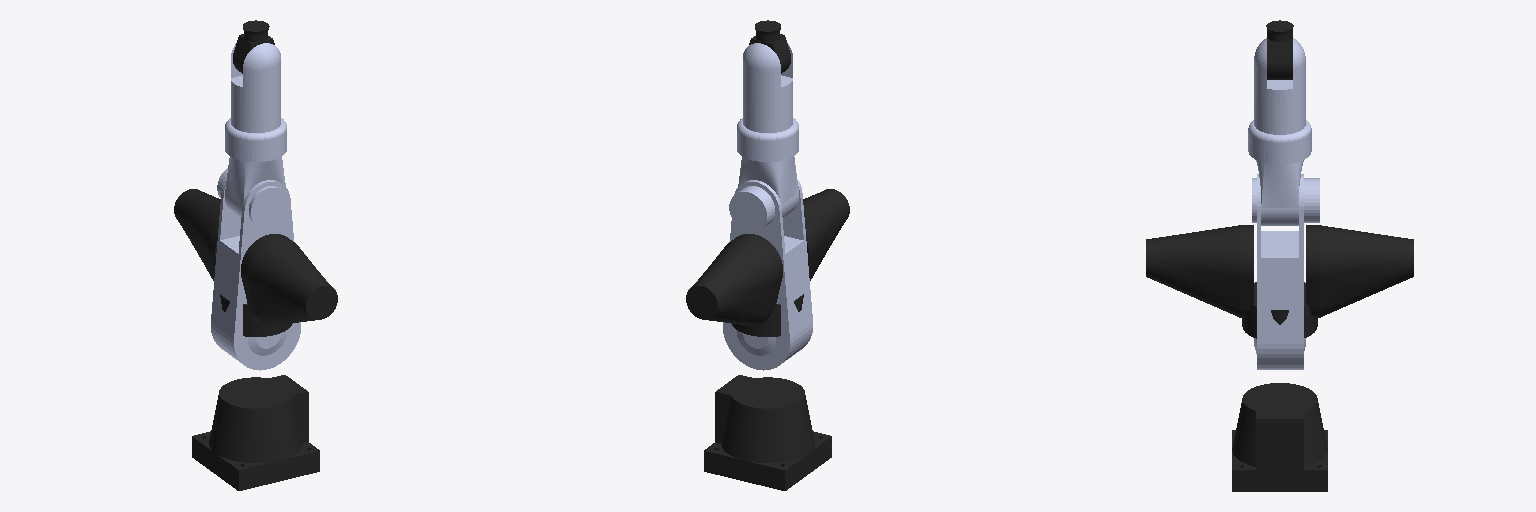
robot.urdf — crs_a465:
<?xml version="1.0" encoding="utf-8"?>
<!-- This URDF was automatically created by SolidWorks to URDF Exporter! Originally created by [author] ([email redacted]) 
     Commit Version: 1.6.0-4-g7f85cfe  Build Version: 1.6.7995.38578
     For more information, please see http://wiki.ros.org/sw_urdf_exporter -->
<robot
  name="crs_a465">
  <link
    name="eslabon_base">
    <inertial>
      <origin
        xyz="0.0033005 -1.0658E-10 0.075392"
        rpy="0 0 0" />
      <mass
        value="5.3549" />
      <inertia
        ixx="0.026465"
        ixy="-5.7942E-11"
        ixz="-0.00085077"
        iyy="0.027827"
        iyz="1.2428E-10"
        izz="0.028818" />
    </inertial>
    <visual>
      <origin
        xyz="0 0 0"
        rpy="0 0 0" />
      <geometry>
        <mesh
          filename="package://crs_a465/meshes/eslabon_base.STL" />
      </geometry>
      <material
        name="">
        <color
          rgba="0.2 0.2 0.2 1" />
      </material>
    </visual>
    <collision>
      <origin
        xyz="0 0 0"
        rpy="0 0 0" />
      <geometry>
        <mesh
          filename="package://crs_a465/meshes/eslabon_base.STL" />
      </geometry>
    </collision>
  </link>
  <link
    name="eslabon_1">
    <inertial>
      <origin
        xyz="-3.6863E-08 5.1363E-08 0.12206"
        rpy="0 0 0" />
      <mass
        value="7.6604" />
      <inertia
        ixx="0.17917"
        ixy="-1.131E-07"
        ixz="-7.5108E-08"
        iyy="0.033062"
        iyz="-1.514E-08"
        izz="0.16191" />
    </inertial>
    <visual>
      <origin
        xyz="0 0 0"
        rpy="0 0 0" />
      <geometry>
        <mesh
          filename="package://crs_a465/meshes/eslabon_1.STL" />
      </geometry>
      <material
        name="">
        <color
          rgba="0.2 0.2 0.2 1" />
      </material>
    </visual>
    <collision>
      <origin
        xyz="0 0 0"
        rpy="0 0 0" />
      <geometry>
        <mesh
          filename="package://crs_a465/meshes/eslabon_1.STL" />
      </geometry>
    </collision>
  </link>
  <joint
    name="junta_0_1"
    type="revolute">
    <origin
      xyz="0 0 0.17"
      rpy="0 0 0" />
    <parent
      link="eslabon_base" />
    <child
      link="eslabon_1" />
    <axis
      xyz="0 0 1" />
    <limit
      lower="-3.0543"
      upper="3.0543"
      effort="39.5"
      velocity="3.14" />
    <calibration
      rising="3.0543" />
  </joint>
  <link
    name="eslabon_2">
    <inertial>
      <origin
        xyz="-2.7756E-17 0.0026097 0.092888"
        rpy="0 0 0" />
      <mass
        value="4.9089" />
      <inertia
        ixx="0.062922"
        ixy="-1.0564E-18"
        ixz="-3.0636E-18"
        iyy="0.065705"
        iyz="-0.0027173"
        izz="0.014194" />
    </inertial>
    <visual>
      <origin
        xyz="0 0 0"
        rpy="0 0 0" />
      <geometry>
        <mesh
          filename="package://crs_a465/meshes/eslabon_2.STL" />
      </geometry>
      <material
        name="">
        <color
          rgba="0.79216 0.81961 0.93333 1" />
      </material>
    </visual>
    <collision>
      <origin
        xyz="0 0 0"
        rpy="0 0 0" />
      <geometry>
        <mesh
          filename="package://crs_a465/meshes/eslabon_2.STL" />
      </geometry>
    </collision>
  </link>
  <joint
    name="junta_1_2"
    type="revolute">
    <origin
      xyz="0 8.00000000000384E-05 0.16"
      rpy="0 0 0" />
    <parent
      link="eslabon_1" />
    <child
      link="eslabon_2" />
    <axis
      xyz="0 1 0" />
    <limit
      lower="-1.5708"
      upper="1.5708"
      effort="66.08"
      velocity="3.14" />
    <calibration
      rising="0.17453" />
  </joint>
  <link
    name="eslabon_3">
    <inertial>
      <origin
        xyz="6.0536E-08 -2.6493E-08 0.0085436"
        rpy="0 0 0" />
      <mass
        value="0.84552" />
      <inertia
        ixx="0.0011491"
        ixy="1.4518E-07"
        ixz="-9.5319E-10"
        iyy="0.0013629"
        iyz="4.2164E-10"
        izz="0.0011924" />
    </inertial>
    <visual>
      <origin
        xyz="0 0 0"
        rpy="0 0 0" />
      <geometry>
        <mesh
          filename="package://crs_a465/meshes/eslabon_3.STL" />
      </geometry>
      <material
        name="">
        <color
          rgba="0.79216 0.81961 0.93333 1" />
      </material>
    </visual>
    <collision>
      <origin
        xyz="0 0 0"
        rpy="0 0 0" />
      <geometry>
        <mesh
          filename="package://crs_a465/meshes/eslabon_3.STL" />
      </geometry>
    </collision>
  </link>
  <joint
    name="junta_2_3"
    type="revolute">
    <origin
      xyz="0 -9.99999999999057E-05 0.305"
      rpy="0 0 0" />
    <parent
      link="eslabon_2" />
    <child
      link="eslabon_3" />
    <axis
      xyz="0 -1 0" />
    <limit
      lower="-1.9199"
      upper="1.9199"
      effort="39.5"
      velocity="3.14" />
    <calibration
      rising="-1.0472" />
  </joint>
  <link
    name="eslabon_4">
    <inertial>
      <origin
        xyz="2.7756E-17 2.7756E-17 0.093313"
        rpy="0 0 0" />
      <mass
        value="2.1712" />
      <inertia
        ixx="0.011152"
        ixy="4.346E-12"
        ixz="-2.1446E-19"
        iyy="0.010864"
        iyz="-3.4711E-18"
        izz="0.0040383" />
    </inertial>
    <visual>
      <origin
        xyz="0 0 0"
        rpy="0 0 0" />
      <geometry>
        <mesh
          filename="package://crs_a465/meshes/eslabon_4.STL" />
      </geometry>
      <material
        name="">
        <color
          rgba="0.79216 0.81961 0.93333 1" />
      </material>
    </visual>
    <collision>
      <origin
        xyz="0 0 0"
        rpy="0 0 0" />
      <geometry>
        <mesh
          filename="package://crs_a465/meshes/eslabon_4.STL" />
      </geometry>
    </collision>
  </link>
  <joint
    name="junta_3_4"
    type="revolute">
    <origin
      xyz="0 0 0.116"
      rpy="0 0 0" />
    <parent
      link="eslabon_3" />
    <child
      link="eslabon_4" />
    <axis
      xyz="0 0 1" />
    <limit
      lower="-3.1416"
      upper="3.1416"
      effort="6.89"
      velocity="2.99" />
    <calibration
      rising="3.14" />
  </joint>
  <link
    name="eslabon_5">
    <inertial>
      <origin
        xyz="1.3878E-17 0 0.0094718"
        rpy="0 0 0" />
      <mass
        value="0.37918" />
      <inertia
        ixx="0.00037262"
        ixy="-1.9242E-20"
        ixz="4.385E-20"
        iyy="0.00044766"
        iyz="-1.4316E-19"
        izz="0.00025382" />
    </inertial>
    <visual>
      <origin
        xyz="0 0 0"
        rpy="0 0 0" />
      <geometry>
        <mesh
          filename="package://crs_a465/meshes/eslabon_5.STL" />
      </geometry>
      <material
        name="">
        <color
          rgba="0.2 0.2 0.2 1" />
      </material>
    </visual>
    <collision>
      <origin
        xyz="0 0 0"
        rpy="0 0 0" />
      <geometry>
        <mesh
          filename="package://crs_a465/meshes/eslabon_5.STL" />
      </geometry>
    </collision>
  </link>
  <joint
    name="junta_4_5"
    type="revolute">
    <origin
      xyz="0 0 0.214"
      rpy="0 0 0" />
    <parent
      link="eslabon_4" />
    <child
      link="eslabon_5" />
    <axis
      xyz="0 -1 0" />
    <limit
      lower="-1.8326"
      upper="1.8326"
      effort="6.82"
      velocity="3.02" />
    <calibration
      rising="0.43633" />
  </joint>
  <link
    name="eslabon_6">
    <inertial>
      <origin
        xyz="0 0 0.007846"
        rpy="0 0 0" />
      <mass
        value="0.035974" />
      <inertia
        ixx="7.4902E-06"
        ixy="-6.0257E-37"
        ixz="-1.1379E-21"
        iyy="7.4902E-06"
        iyz="3.3128E-21"
        izz="1.356E-05" />
    </inertial>
    <visual>
      <origin
        xyz="0 0 0"
        rpy="0 0 0" />
      <geometry>
        <mesh
          filename="package://crs_a465/meshes/eslabon_6.STL" />
      </geometry>
      <material
        name="">
        <color
          rgba="0.2 0.2 0.2 1" />
      </material>
    </visual>
    <collision>
      <origin
        xyz="0 0 0"
        rpy="0 0 0" />
      <geometry>
        <mesh
          filename="package://crs_a465/meshes/eslabon_6.STL" />
      </geometry>
    </collision>
  </link>
  <joint
    name="junta_5_6"
    type="revolute">
    <origin
      xyz="0 0 0.0635000000000001"
      rpy="0 0 0" />
    <parent
      link="eslabon_5" />
    <child
      link="eslabon_6" />
    <axis
      xyz="0 0 1" />
    <limit
      lower="-3.1416"
      upper="3.1416"
      effort="2.5"
      velocity="2.99" />
    <calibration
      rising="3.14" />
  </joint>
</robot>

--- Render facts (derived) ---
3 views of the same robot in one strip: view 1: azimuth 30°, elevation 25°; view 2: azimuth 150°, elevation 25°; view 3: azimuth 270°, elevation 25° (orthographic).
Robot: crs_a465 — 7 links, 6 joints (6 revolute); root link eslabon_base; default pose: all joints at 0.
Links seen in each view (by area): view 1: eslabon_base, eslabon_1, eslabon_2, eslabon_4, eslabon_3, eslabon_5; view 2: eslabon_base, eslabon_1, eslabon_2, eslabon_4, eslabon_3, eslabon_5; view 3: eslabon_1, eslabon_base, eslabon_2, eslabon_4, eslabon_3, eslabon_5.
Link boxes in pixels (<box>): eslabon_base: <box>192,375,319,490</box>; eslabon_1: <box>174,189,337,336</box>; eslabon_2: <box>211,168,300,370</box>; eslabon_4: <box>225,43,286,161</box>; eslabon_3: <box>225,157,285,217</box>; eslabon_5: <box>233,34,274,73</box>; eslabon_base: <box>704,375,831,490</box>; eslabon_1: <box>686,189,849,336</box>; eslabon_2: <box>723,179,812,370</box>; eslabon_4: <box>737,43,798,161</box>; eslabon_3: <box>738,157,798,217</box>; eslabon_5: <box>749,34,790,73</box>; eslabon_1: <box>1146,225,1413,338</box>; eslabon_base: <box>1232,383,1327,491</box>; eslabon_2: <box>1252,174,1319,369</box>; eslabon_4: <box>1248,38,1311,163</box>; eslabon_3: <box>1256,160,1303,225</box>; eslabon_5: <box>1267,33,1292,79</box>.
Bounding box of the posed robot: 0.2032 × 0.57 × 1.04 m (x, y, z).
Meshes: 7 distinct files referenced, 7 mesh visuals loaded (7 binary STL).